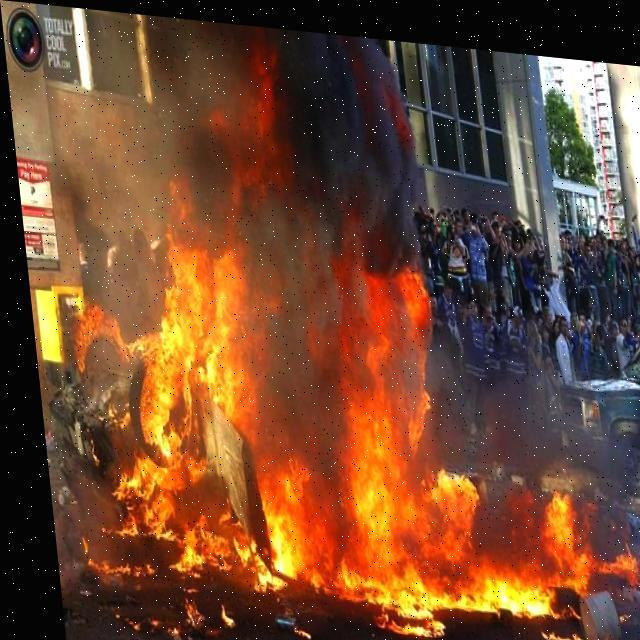Fire: (29, 16, 636, 639)
